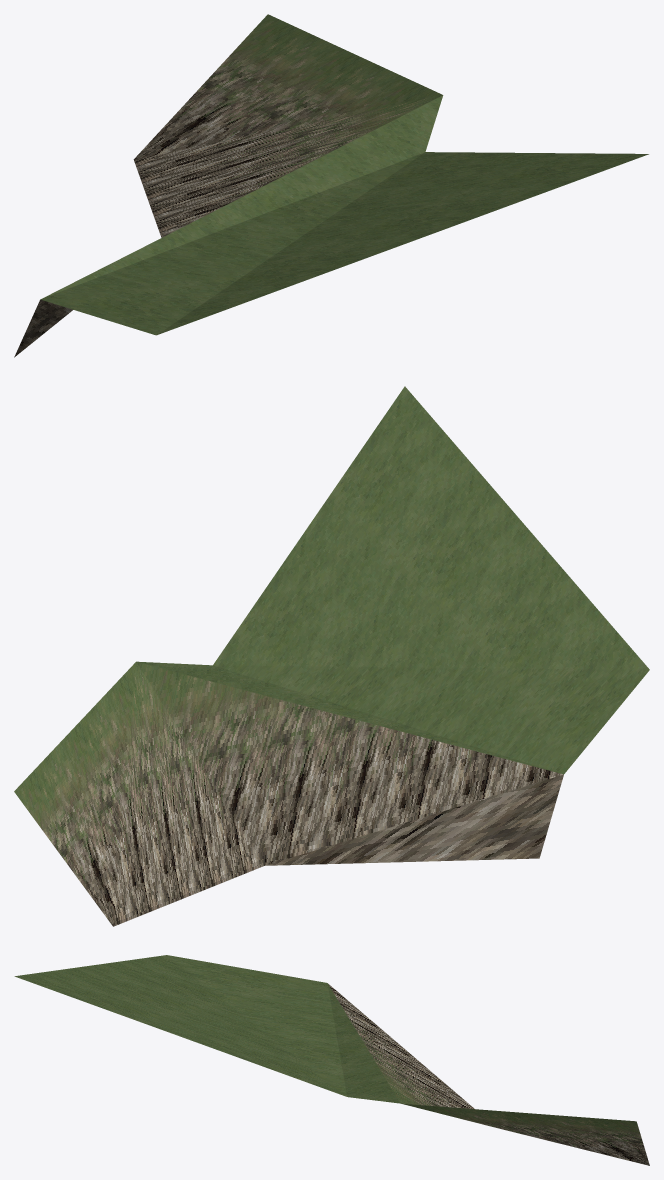
The model's file is LODa_carisle_mid_landmass_02_08.fbx.
The picture shows the model from 3 angles, top to bottom: view 1: azimuth 30°, elevation 25°; view 2: azimuth 150°, elevation 25°; view 3: azimuth 270°, elevation 25°; orthographic projection. The views are drawn at different scales.
Visible parts, largest first — view 1: LODa_carisle_mid_landmass_02_08; view 2: LODa_carisle_mid_landmass_02_08; view 3: LODa_carisle_mid_landmass_02_08.
Part boxes in pixels (<box>): LODa_carisle_mid_landmass_02_08: <box>14,14,648,357</box>; LODa_carisle_mid_landmass_02_08: <box>14,386,649,926</box>; LODa_carisle_mid_landmass_02_08: <box>14,955,649,1165</box>.
Bounding box in the file's own units: 16.69 × 27.42 × 10.52.
